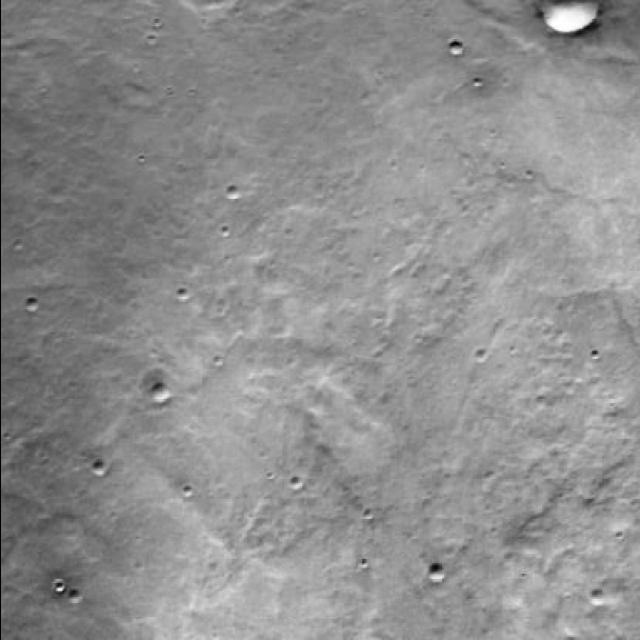crater: (534, 0, 597, 40), (146, 386, 168, 408), (427, 564, 445, 582)
